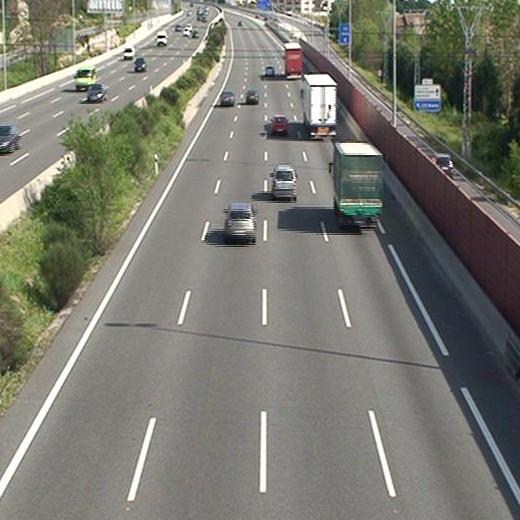car: (225, 204, 255, 238), (271, 166, 296, 196), (271, 116, 288, 133), (220, 92, 234, 106), (246, 90, 258, 103), (263, 66, 274, 77)
small-truck: (333, 142, 385, 222)
truck: (302, 74, 339, 136), (284, 42, 304, 79)
